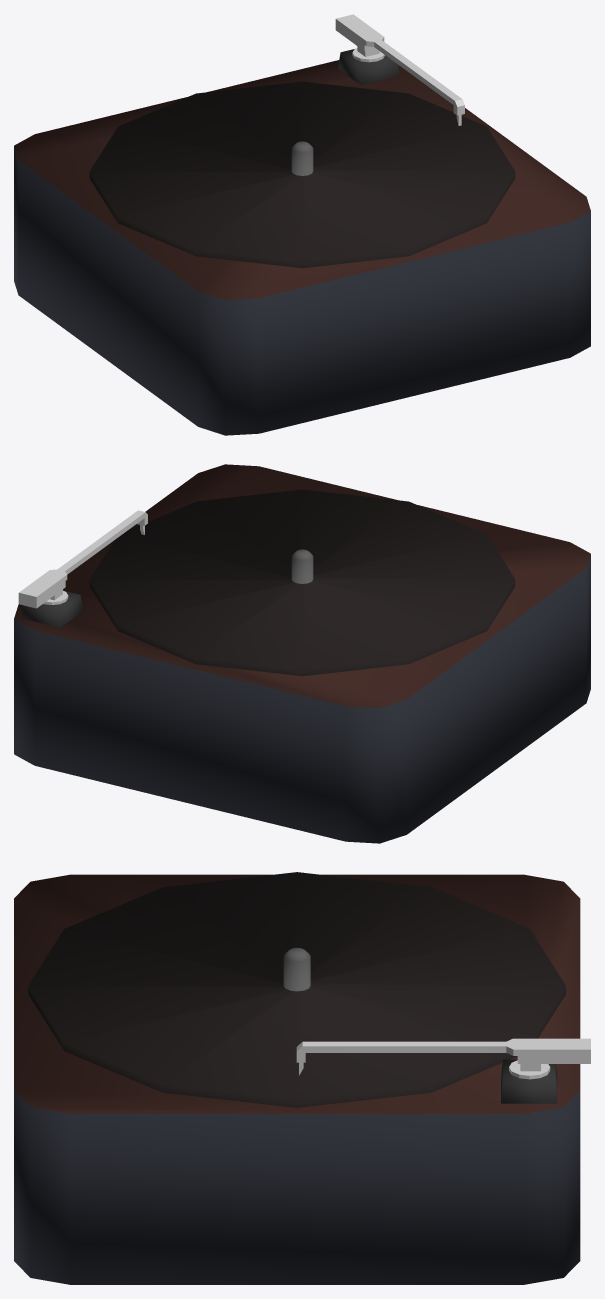
The model's file is PROP_MusicPlayer.fbx.
The picture shows the model from 3 angles, top to bottom: view 1: azimuth 30°, elevation 25°; view 2: azimuth 150°, elevation 25°; view 3: azimuth 270°, elevation 25°; orthographic projection. The views are drawn at different scales.
Visible parts, largest first — view 1: MusicPlayer, MusicPlayer_Needle; view 2: MusicPlayer, MusicPlayer_Needle; view 3: MusicPlayer, MusicPlayer_Needle.
Part boxes in pixels (bbox=[...]): MusicPlayer: bbox=[14, 49, 590, 435]; MusicPlayer_Needle: bbox=[335, 14, 464, 125]; MusicPlayer: bbox=[14, 464, 590, 843]; MusicPlayer_Needle: bbox=[18, 510, 147, 608]; MusicPlayer: bbox=[14, 872, 580, 1284]; MusicPlayer_Needle: bbox=[296, 1038, 590, 1079].
Size of the model in its own units: 0.5131 by 0.2188 by 0.5228.
